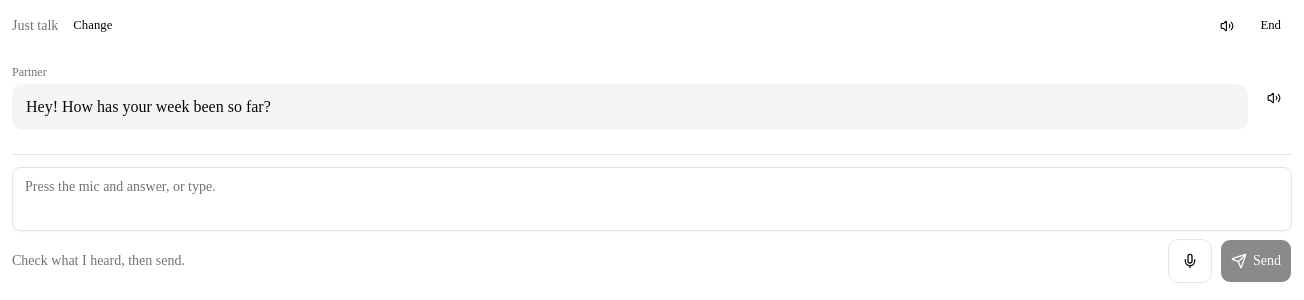
Test: TalkPanel › goes back to the room picker from Change, and stays there
Click the button with test id "change": (93, 26) left=62, top=12, right=123, bottom=40
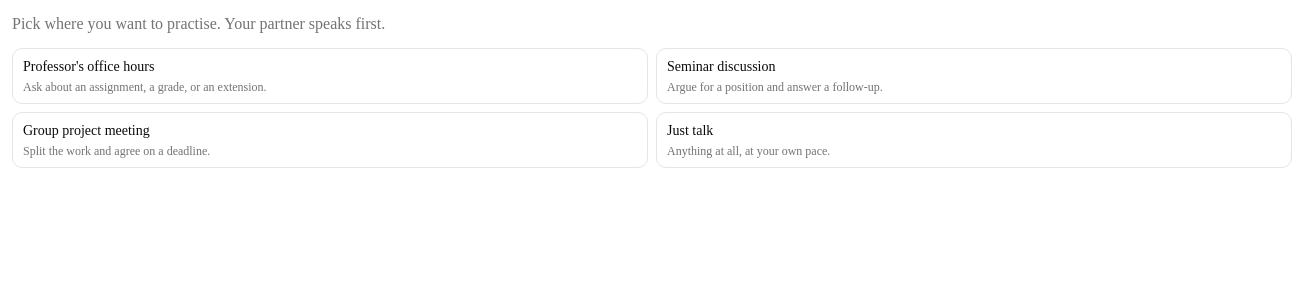
Now the element with test id "scenarios" is shown, box left=12, top=12, right=1292, bottom=168
Now the element with test id "talk" is gone
